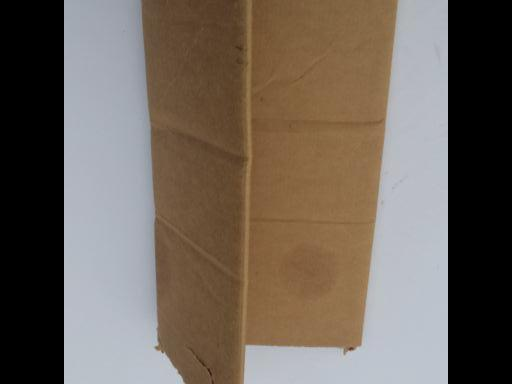cardboard: (140, 3, 400, 380)
